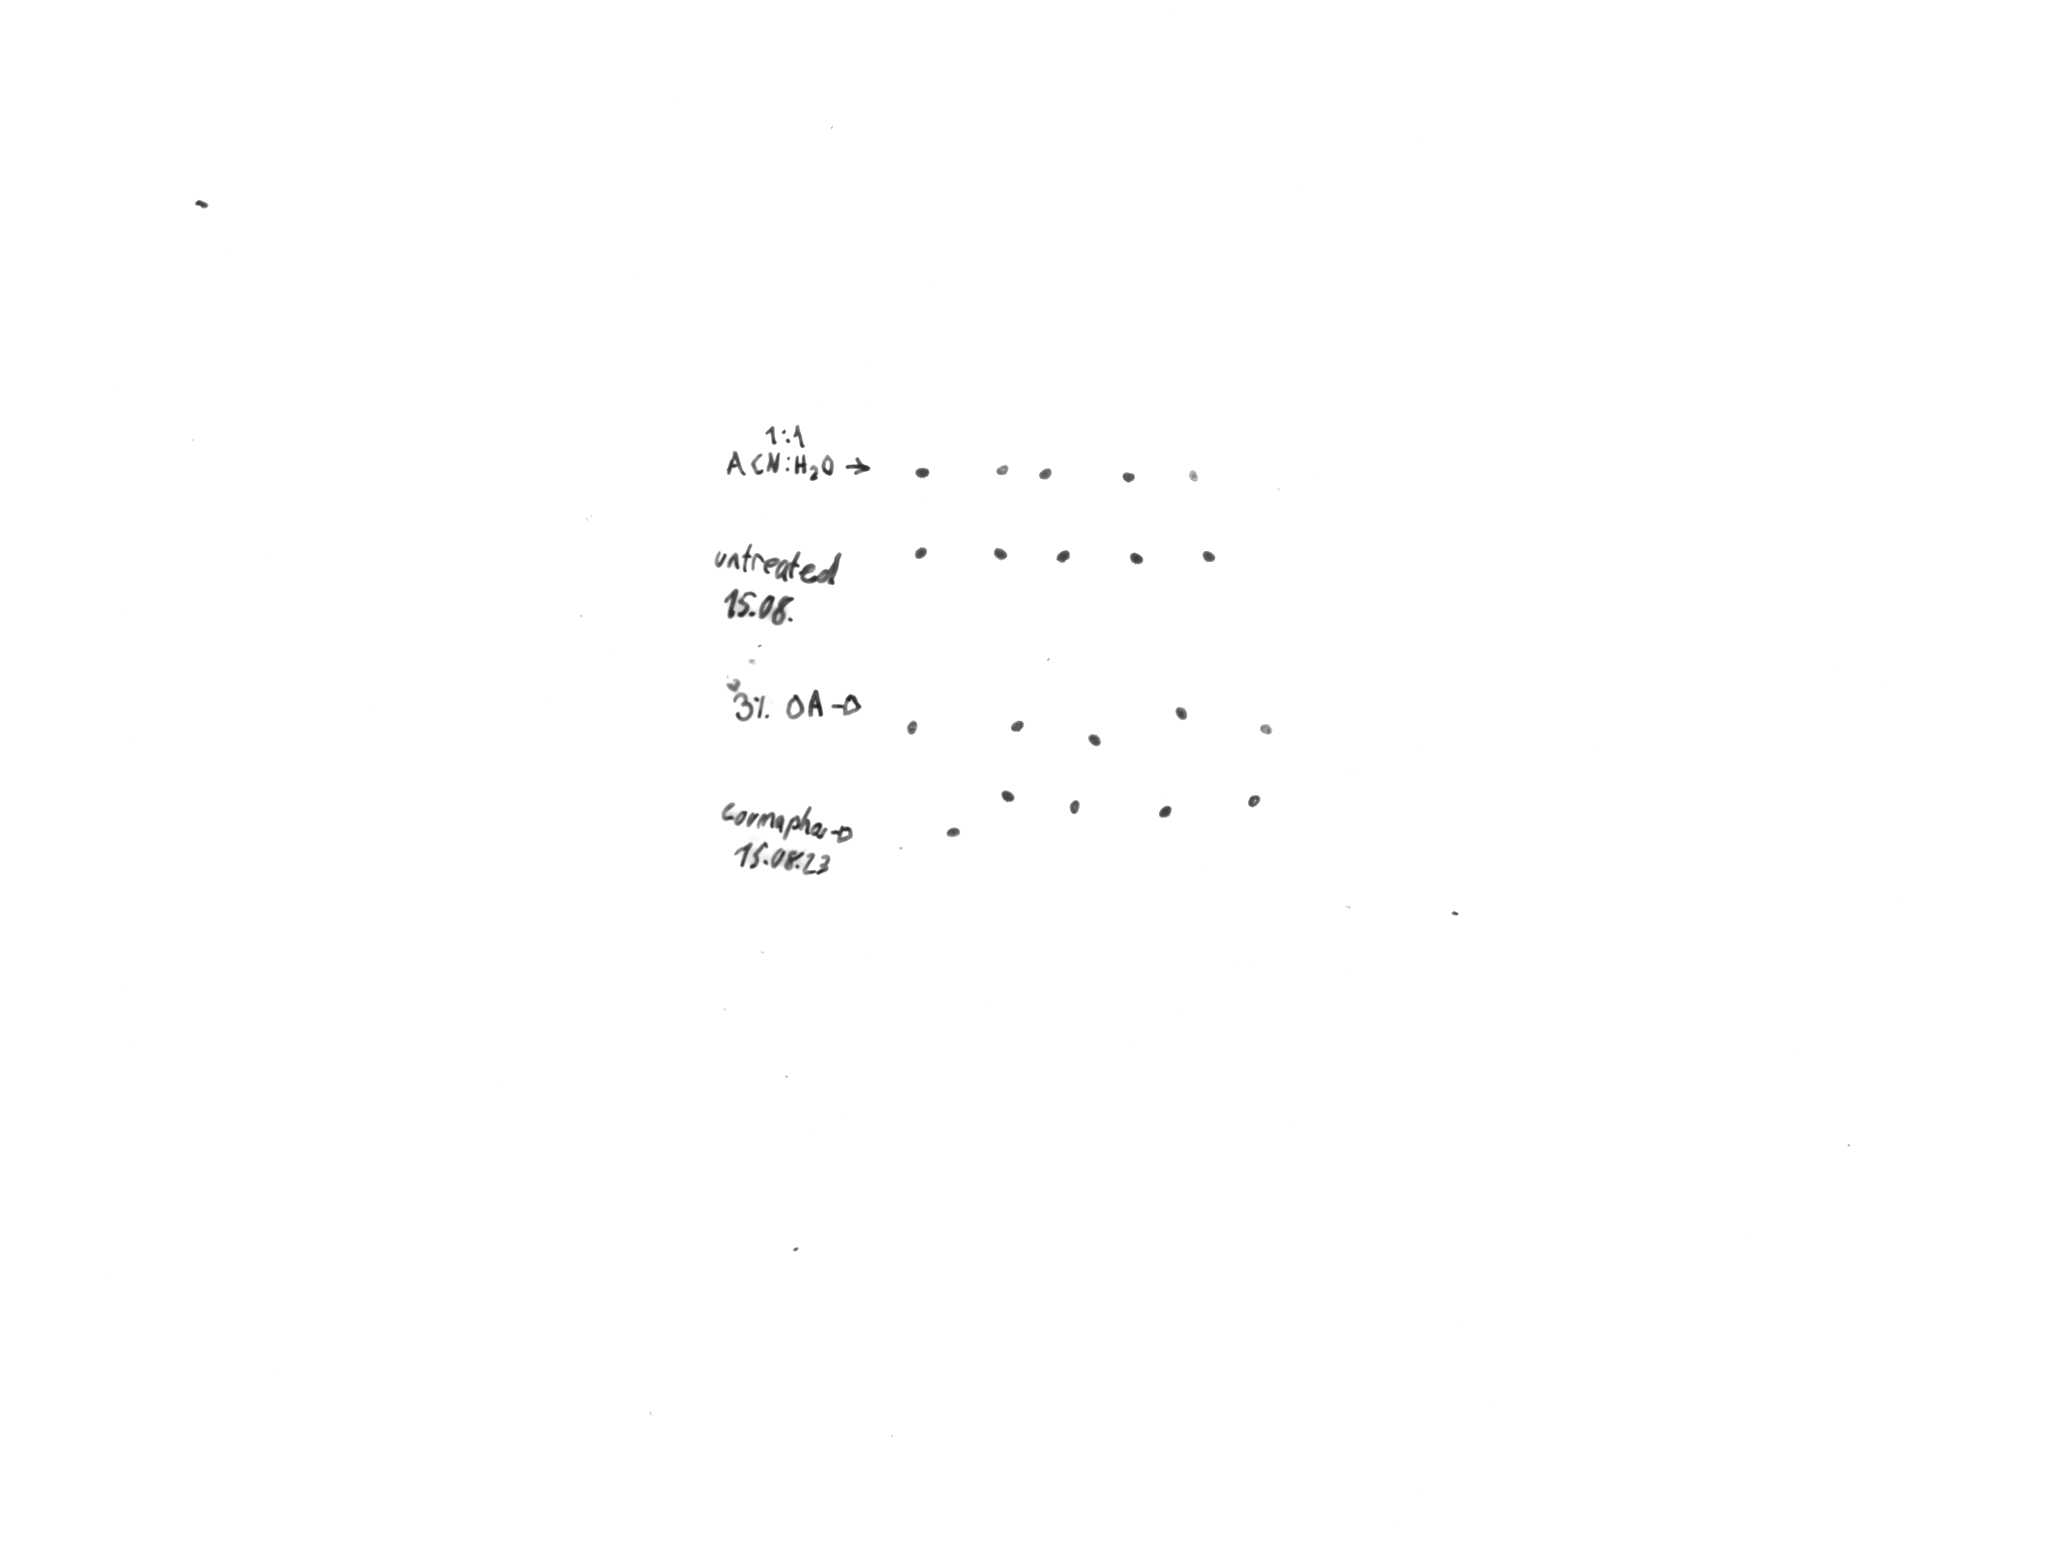varroa: (1054, 547, 1070, 568), (1117, 467, 1135, 485), (1244, 791, 1261, 809), (991, 547, 1010, 563), (1127, 550, 1146, 566), (910, 545, 931, 560), (1198, 550, 1219, 564), (913, 464, 931, 480), (1086, 730, 1103, 748), (1171, 704, 1188, 720), (1154, 804, 1174, 819), (991, 462, 1008, 477), (1187, 469, 1201, 485), (1008, 718, 1025, 733), (1065, 801, 1083, 814), (1038, 467, 1052, 482), (905, 718, 918, 735), (999, 790, 1015, 803), (942, 827, 963, 837), (1260, 722, 1273, 736)
